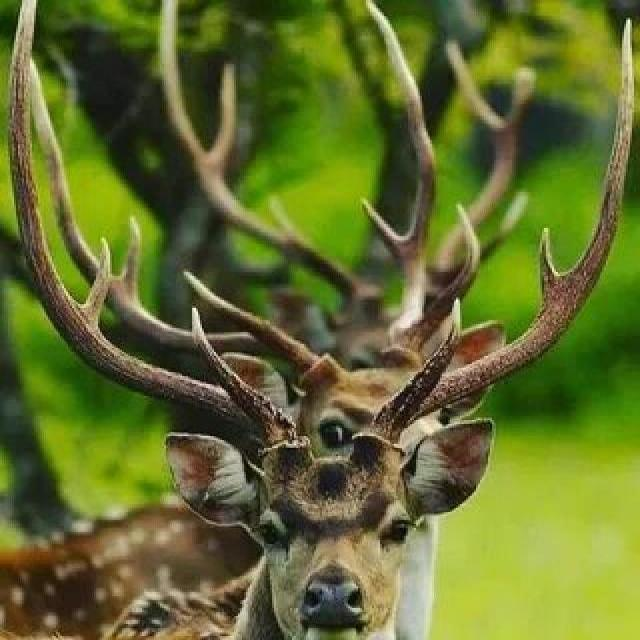deer: (56, 138, 544, 640)
